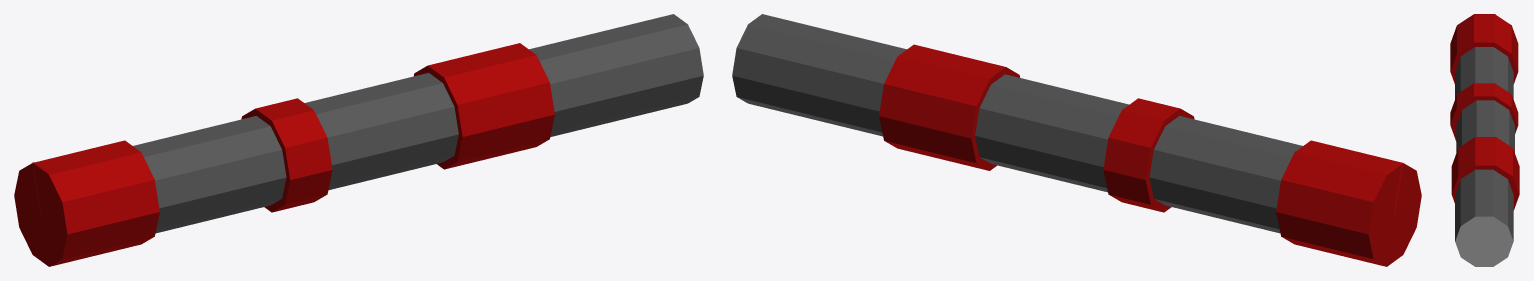
File: big_tubes_mesh.fbx
3 views of the same model, side by side, from view 1: azimuth 30°, elevation 25°; view 2: azimuth 150°, elevation 25°; view 3: azimuth 270°, elevation 25° (orthographic). The views are drawn at different scales.
Visible parts, largest first — view 1: tube4, tube1, tube2, tube3; view 2: tube4, tube1, tube2, tube3; view 3: tube2, tube1, tube4, tube3.
Boxes of the visible parts, <box> form: tube4: <box>14,116,286,266</box>; tube1: <box>304,43,554,190</box>; tube2: <box>529,14,703,136</box>; tube3: <box>241,98,332,212</box>; tube4: <box>1149,116,1421,266</box>; tube1: <box>879,44,1128,192</box>; tube2: <box>732,14,906,136</box>; tube3: <box>1103,98,1194,212</box>; tube2: <box>1455,169,1513,266</box>; tube1: <box>1451,100,1519,210</box>; tube4: <box>1450,14,1518,98</box>; tube3: <box>1450,83,1518,141</box>.
Size of the model in its own units: 202 by 27.87 by 29.68.
